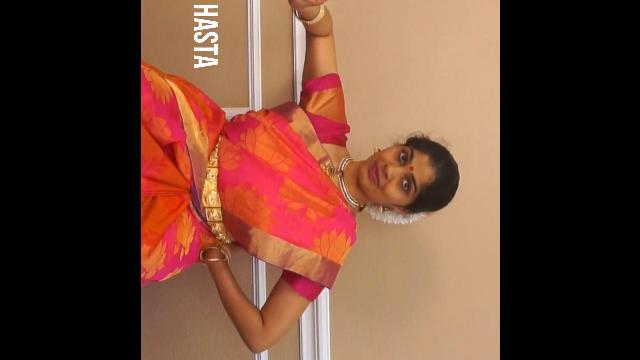trishool: (263, 0, 368, 21)
